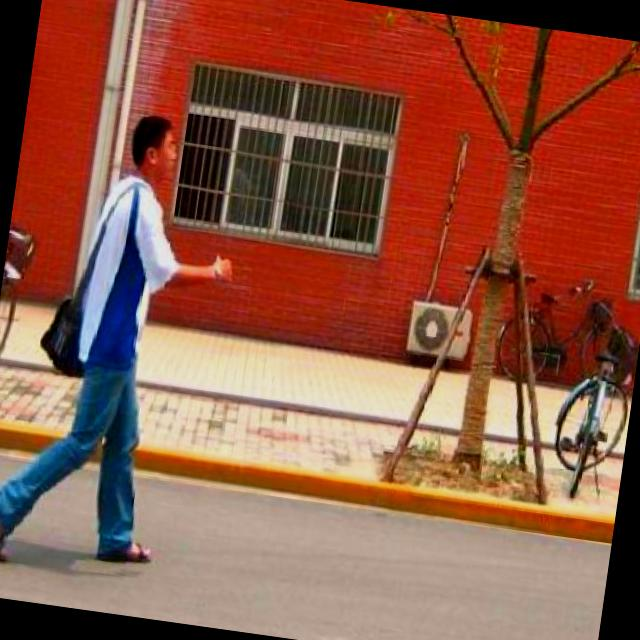Person: (0, 94, 244, 589)
